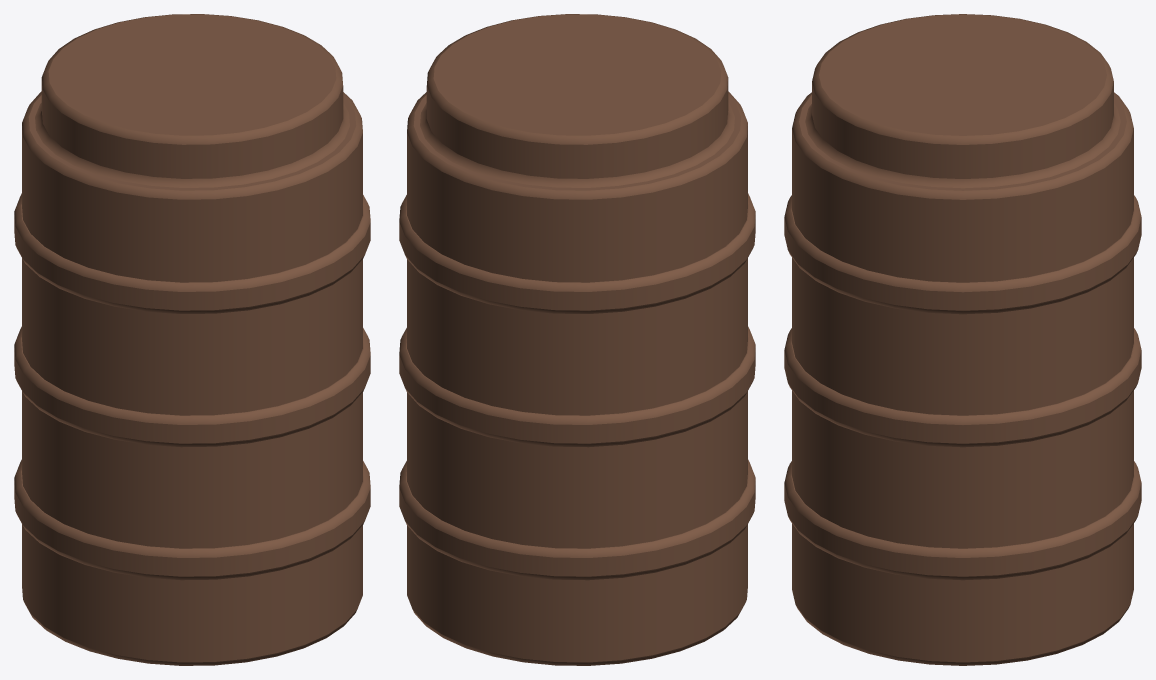
Rendered from SM_Barrel_Open.glb.
3 views of the same model, side by side, from view 1: azimuth 30°, elevation 25°; view 2: azimuth 150°, elevation 25°; view 3: azimuth 270°, elevation 25° (orthographic).
Visible parts, largest first — view 1: SM_Barrel_Open; view 2: SM_Barrel_Open; view 3: SM_Barrel_Open.
Boxes of the visible parts, box(x1,y1,x2,y2) form: SM_Barrel_Open: box(14, 14, 370, 665); SM_Barrel_Open: box(399, 14, 755, 665); SM_Barrel_Open: box(784, 14, 1141, 665).
Size of the model in its own units: 0.627 by 1.01 by 0.627.
